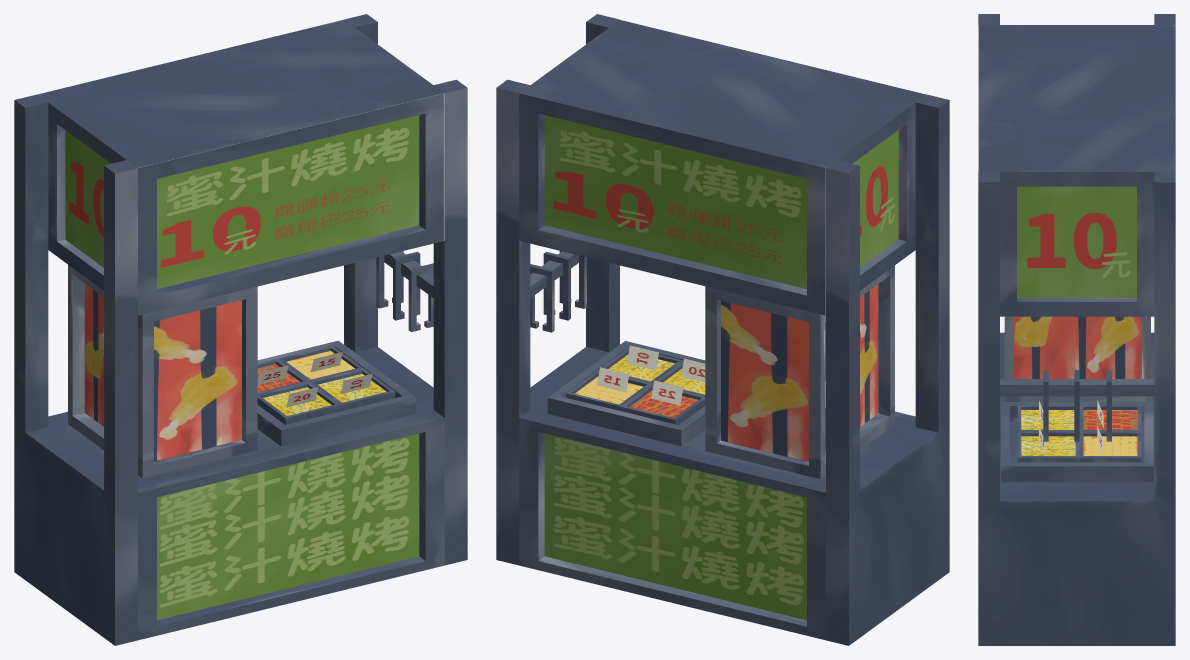
File: Stand_4.glb
3 renders of one model, left to right at view 1: azimuth 30°, elevation 25°; view 2: azimuth 150°, elevation 25°; view 3: azimuth 270°, elevation 25°, orthographic.
Parts seen in each view (by area): view 1: Stand.4.001; view 2: Stand.4.001; view 3: Stand.4.001.
Part boxes in pixels (<box>): Stand.4.001: <box>14,14,467,645</box>; Stand.4.001: <box>496,14,949,645</box>; Stand.4.001: <box>978,14,1175,645</box>.
Bounding box in the file's own units: 2.43 × 3.1 × 1.2.
1 material, 1 textured.
